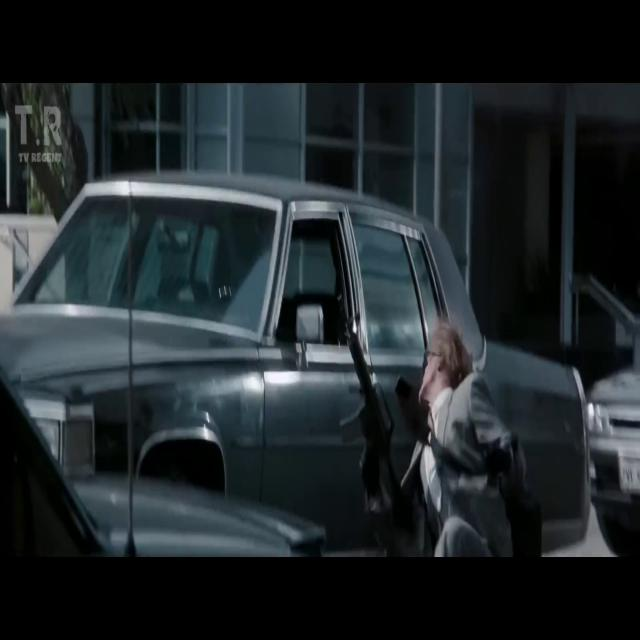long weapon: (336, 297, 408, 529)
